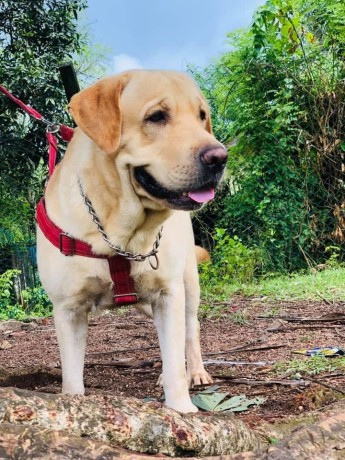Dog: (23, 47, 244, 425)
